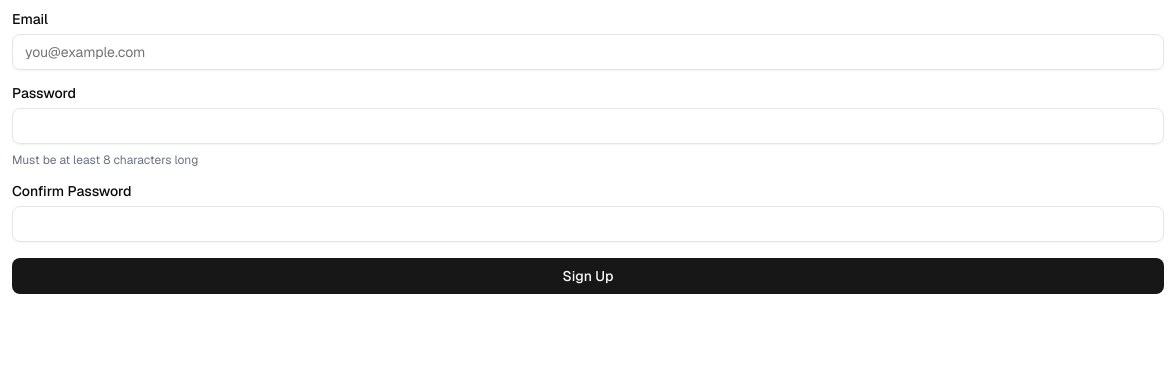
SignUpForm — error handling › clears password mismatch error on resubmit with matching passwords
Type "aaa" into the password field labelled "Password" at (588, 126), box [12,108,1164,144]
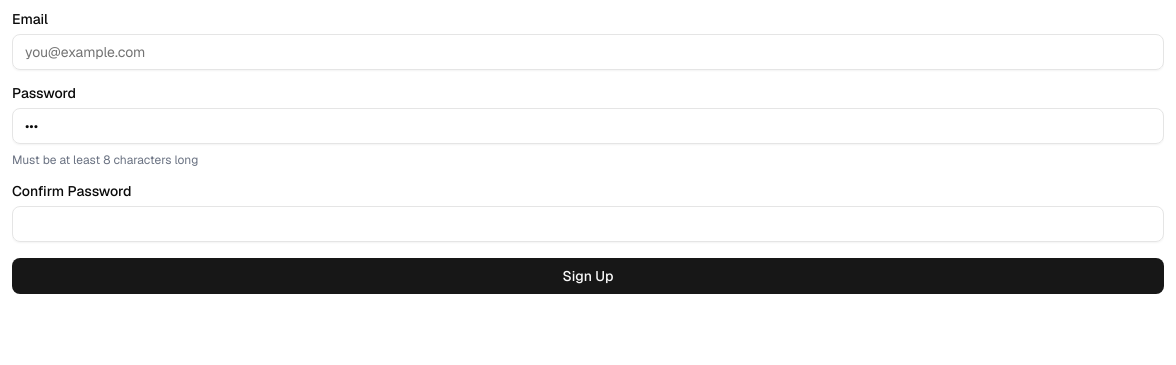
Type "bbb" into the password field labelled "Confirm Password" at (588, 224), box [12,206,1164,242]
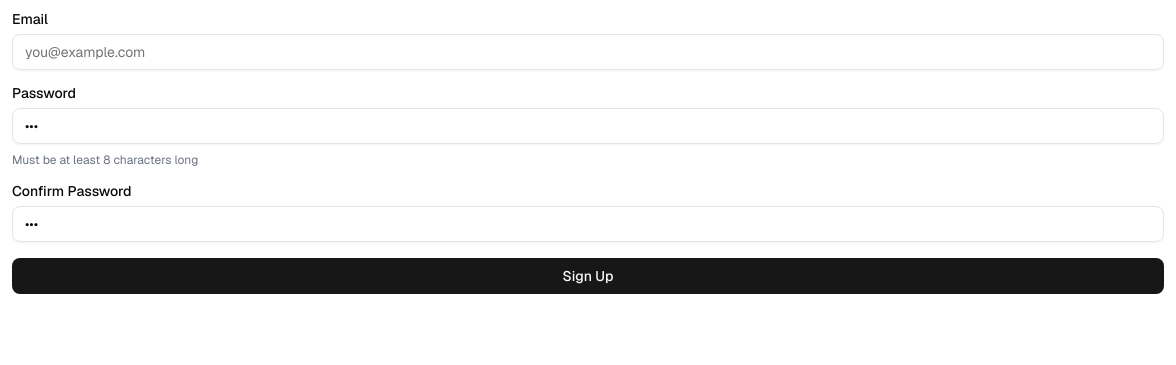
Submit the form labelled "Email"
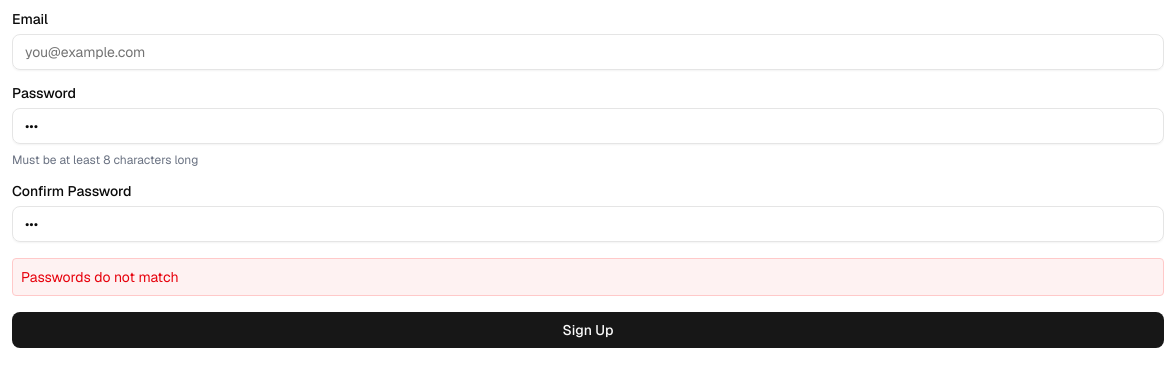
expect the text "Passwords do not match" is shown: met, box [12,258,1164,296]
Type "matched" into the password field labelled "Password" at (588, 126), box [12,108,1164,144]
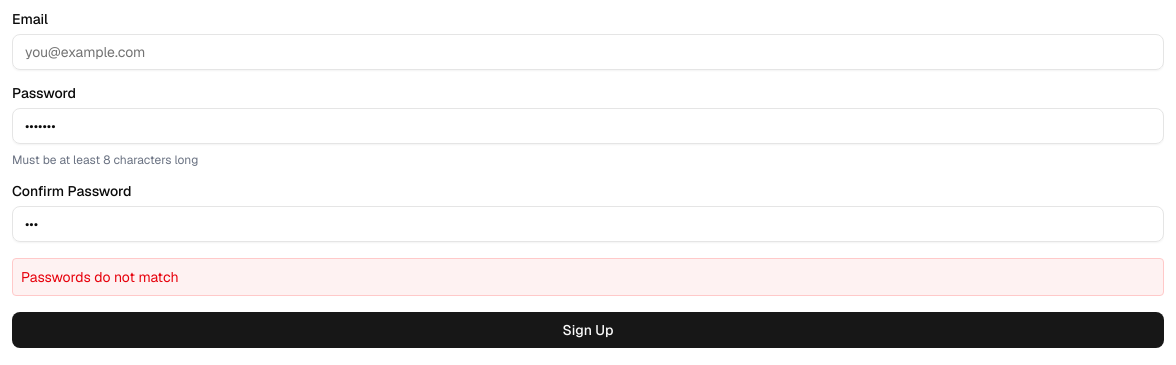
Type "matched" into the password field labelled "Confirm Password" at (588, 224), box [12,206,1164,242]
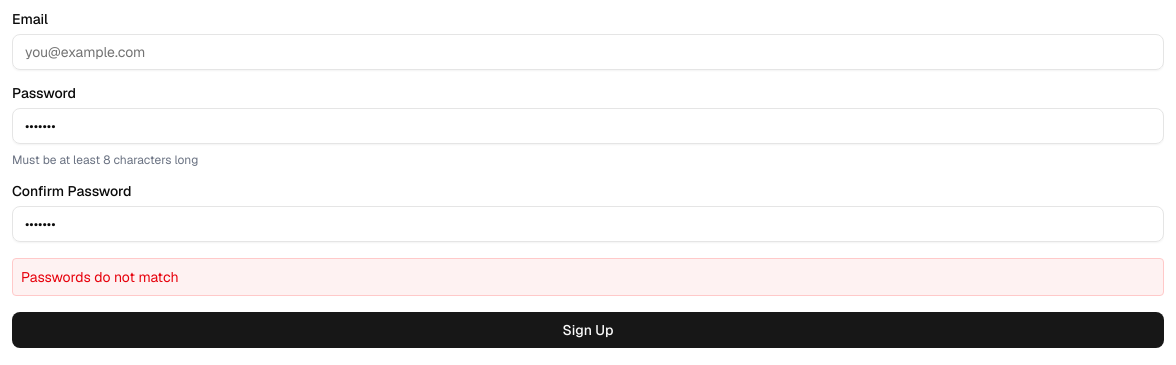
Submit the form labelled "Email"
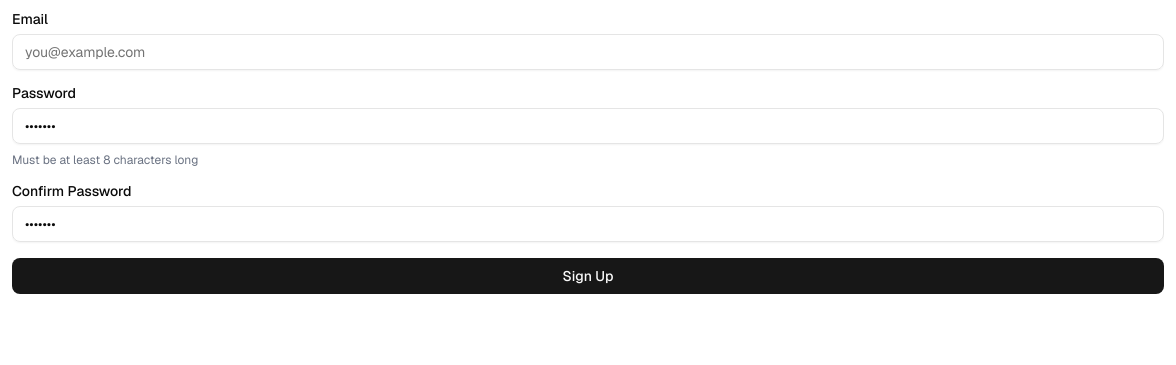
expect the text "Passwords do not match" is gone: met
